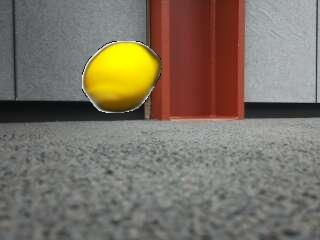lemon: (82, 41, 162, 113)
